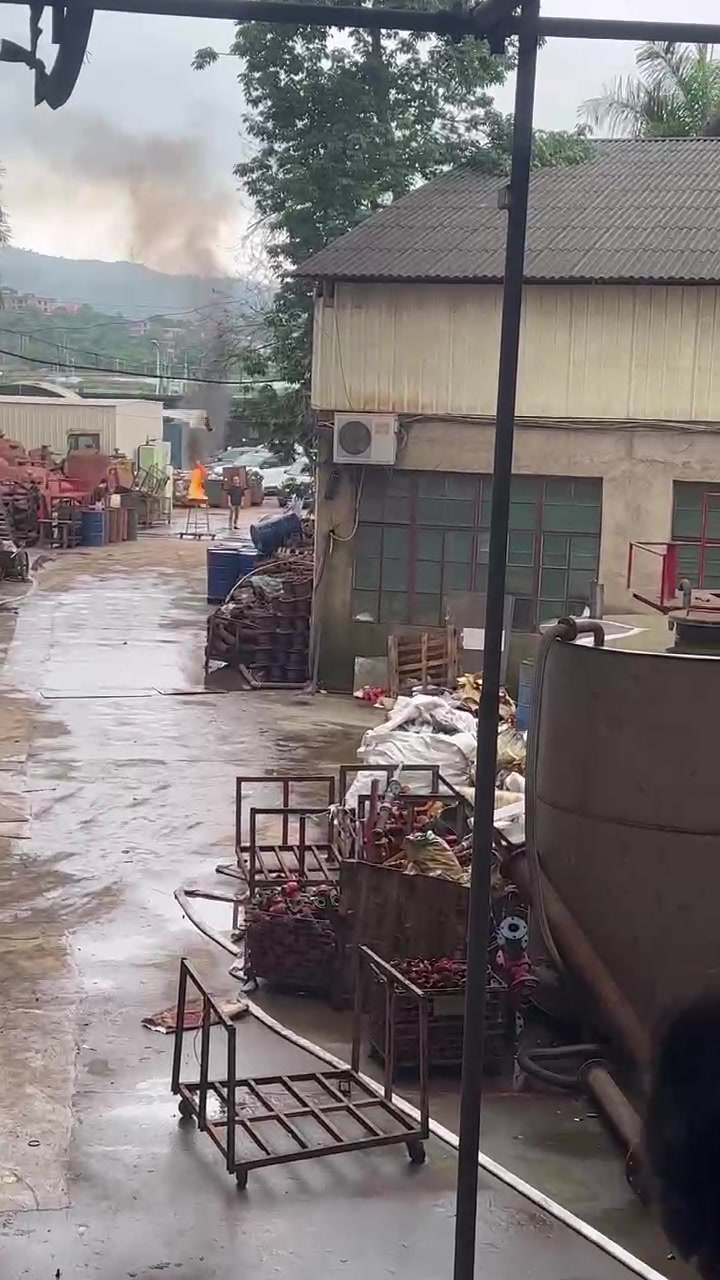fire: (187, 460, 208, 498)
